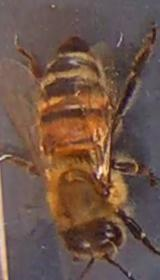varroa_mite: (36, 131, 56, 155)
